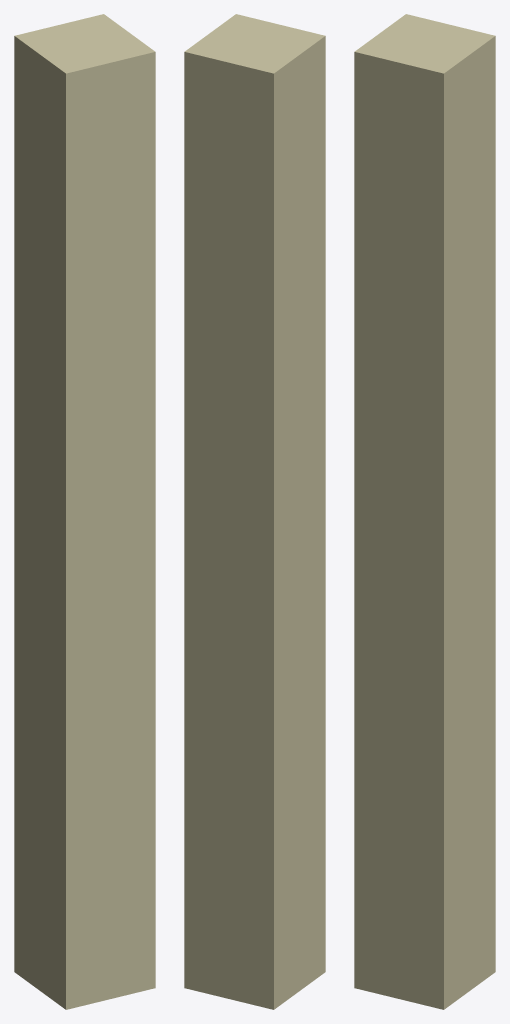
Rendered from Pillar_50x500.FBX.
3 renders of one model, left to right at view 1: azimuth 30°, elevation 25°; view 2: azimuth 150°, elevation 25°; view 3: azimuth 330°, elevation 25°, orthographic.
Parts seen in each view (by area): view 1: Pillar_50x500; view 2: Pillar_50x500; view 3: Pillar_50x500.
Boxes of the visible parts, box(x1,y1,x2,y2) form: Pillar_50x500: box(14, 14, 155, 1009); Pillar_50x500: box(184, 14, 325, 1009); Pillar_50x500: box(354, 14, 495, 1009).
Size of the model in its own units: 50 by 50 by 500.
